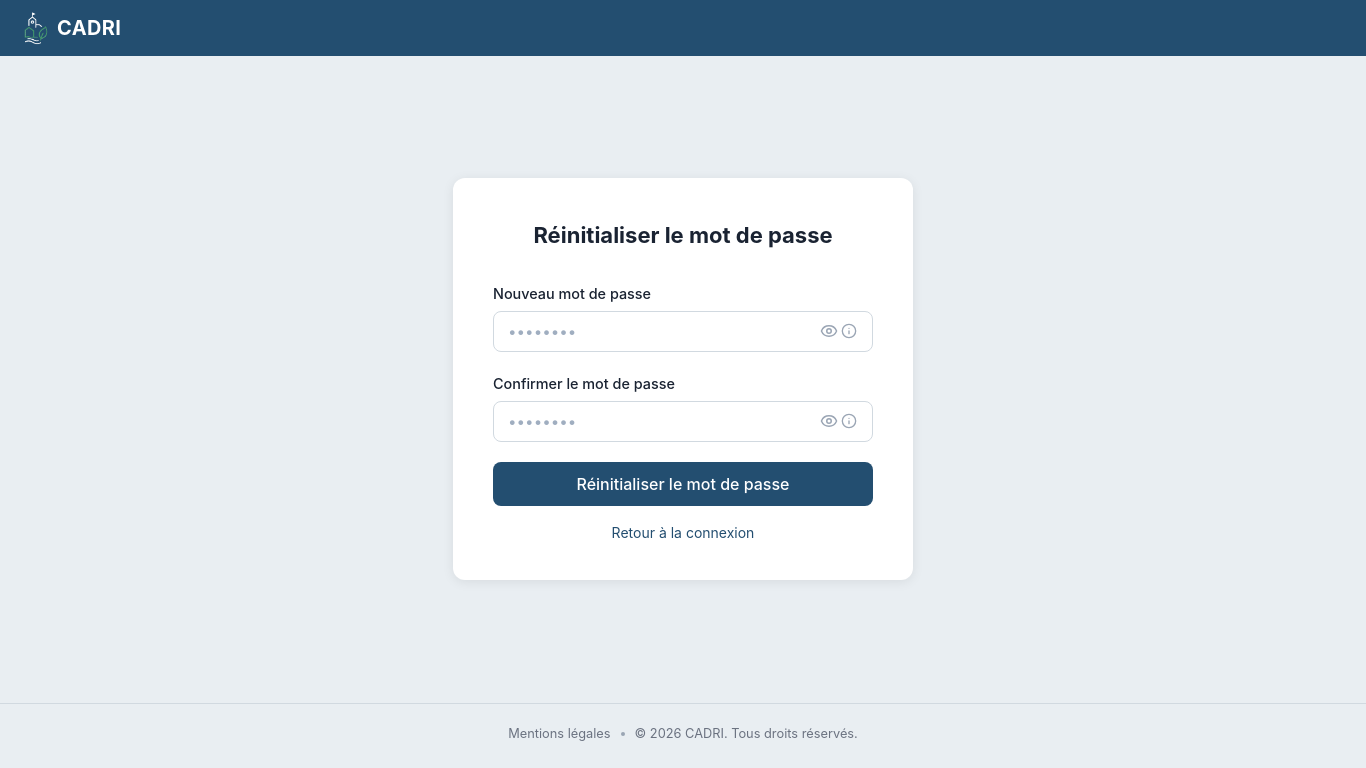
Test: ResetPasswordPage › affiche une erreur quand les mots de passe ne correspondent pas
Type "Azerty123!" into the password field labelled "Nouveau mot de passe" at (683, 331), box [493,311,873,352]
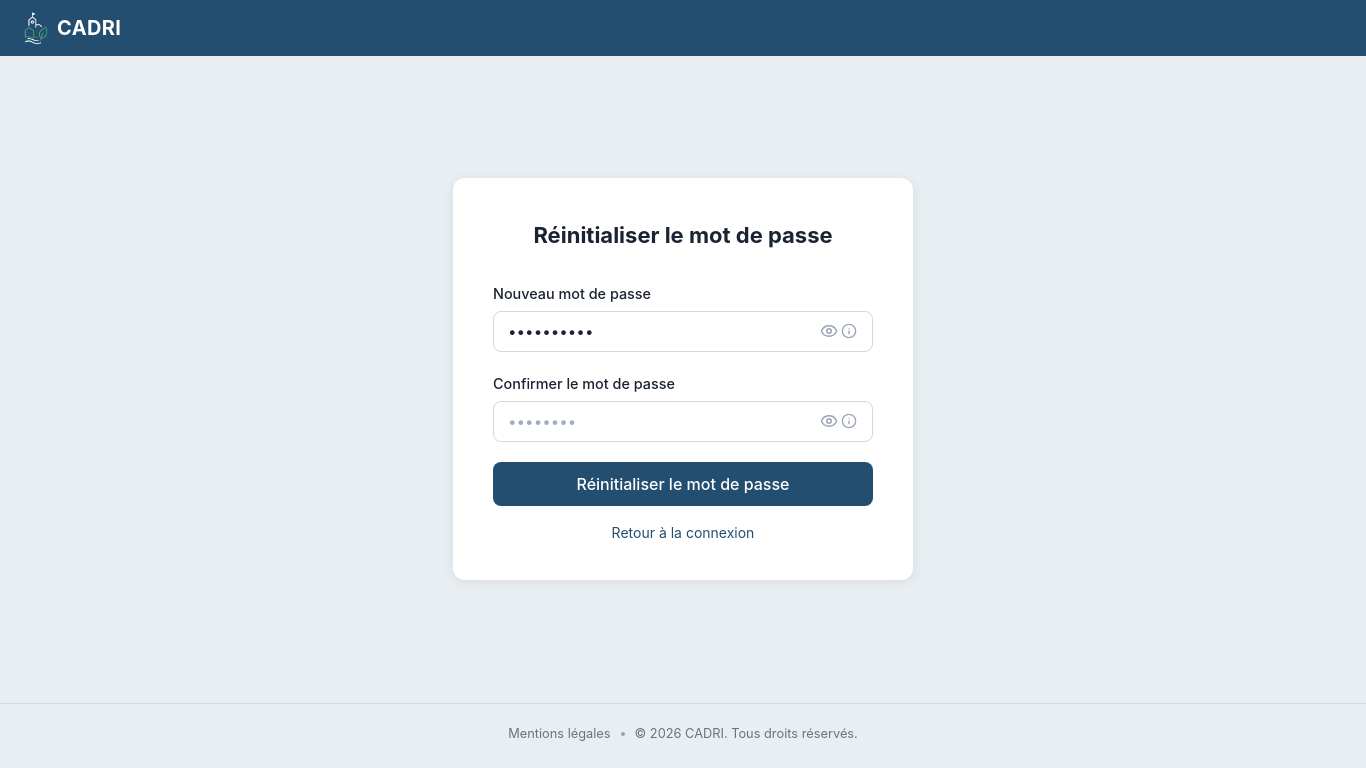
Type "Different123!" into the password field labelled "Confirmer le mot de passe" at (683, 421), box [493,401,873,442]
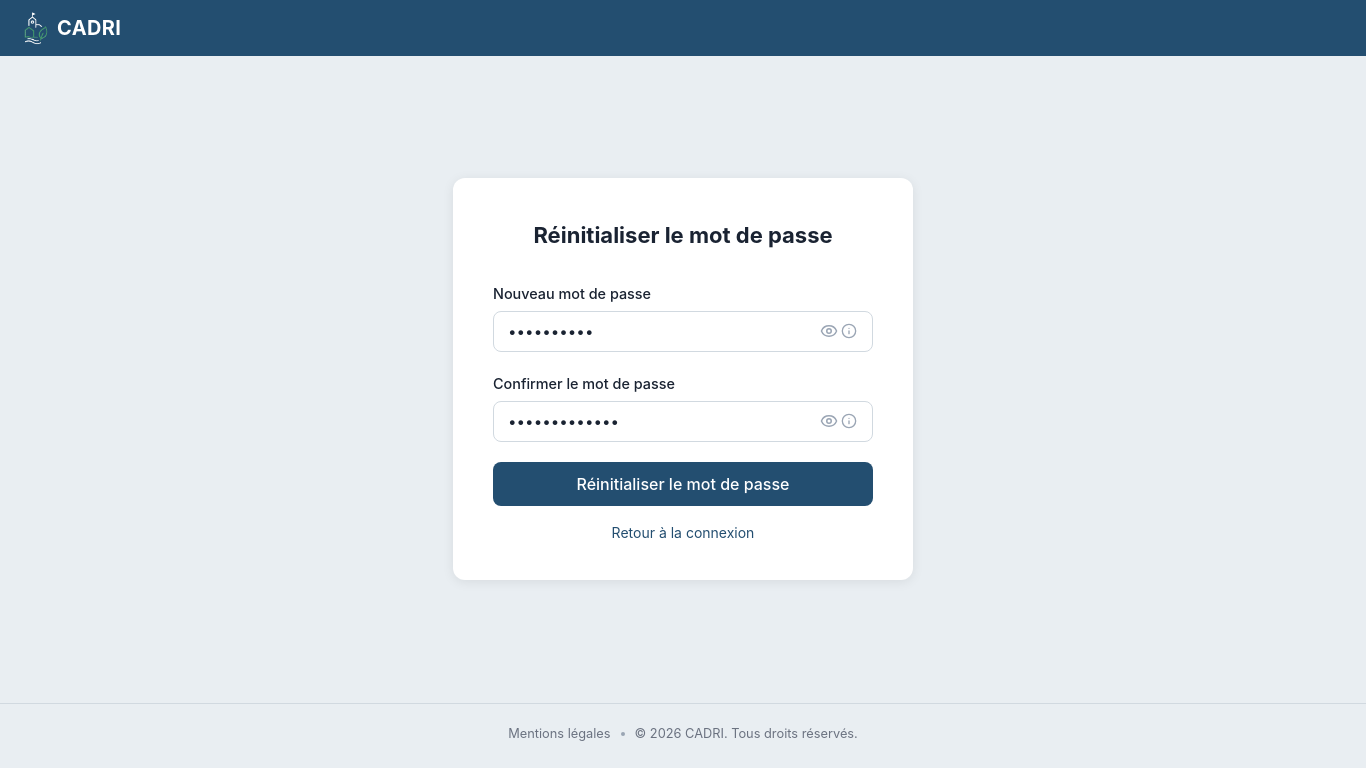
Click the button "Réinitialiser le mot de passe" at (683, 484), box [493,462,873,506]
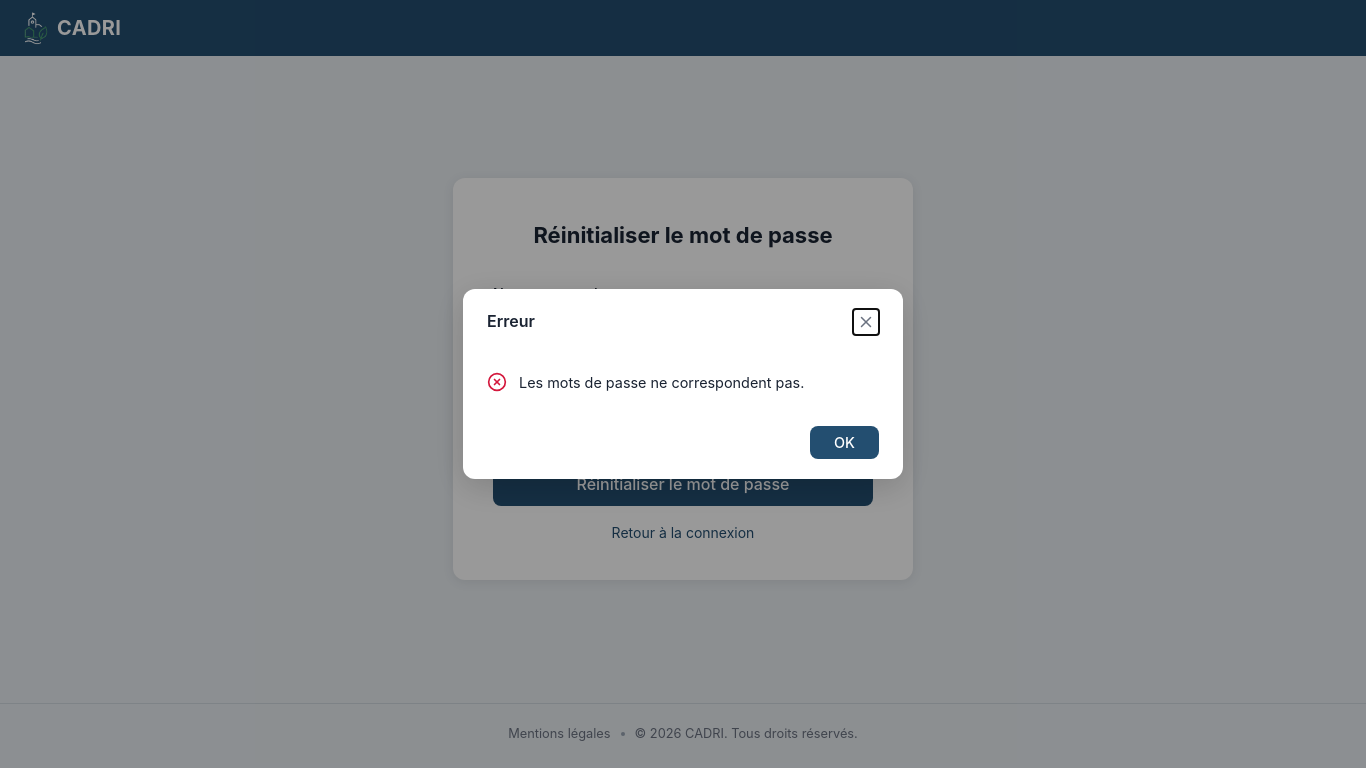
Result: the dialog is shown
Result: the text "Les mots de passe ne correspondent pas." is shown at [519,371,804,394]
